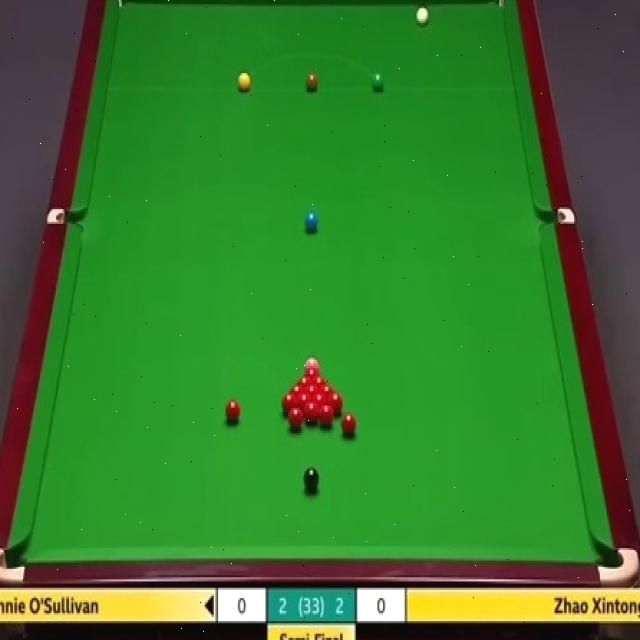black-ball: (302, 464, 320, 493)
blue-ball: (306, 212, 319, 234)
brown-ball: (306, 74, 318, 92)
green-ball: (372, 72, 384, 92)
pink-ball: (304, 352, 320, 370)
red-ball: (224, 400, 243, 426), (341, 411, 357, 440), (304, 400, 320, 426), (287, 408, 303, 432), (326, 392, 344, 413), (320, 406, 336, 428), (282, 392, 297, 414), (296, 392, 312, 408), (312, 394, 326, 412), (310, 376, 329, 387), (319, 384, 336, 395), (294, 376, 311, 386), (303, 366, 320, 376), (304, 385, 320, 395), (290, 385, 304, 396)
white-ball: (414, 4, 430, 28)
yellow-ball: (237, 70, 252, 92)
